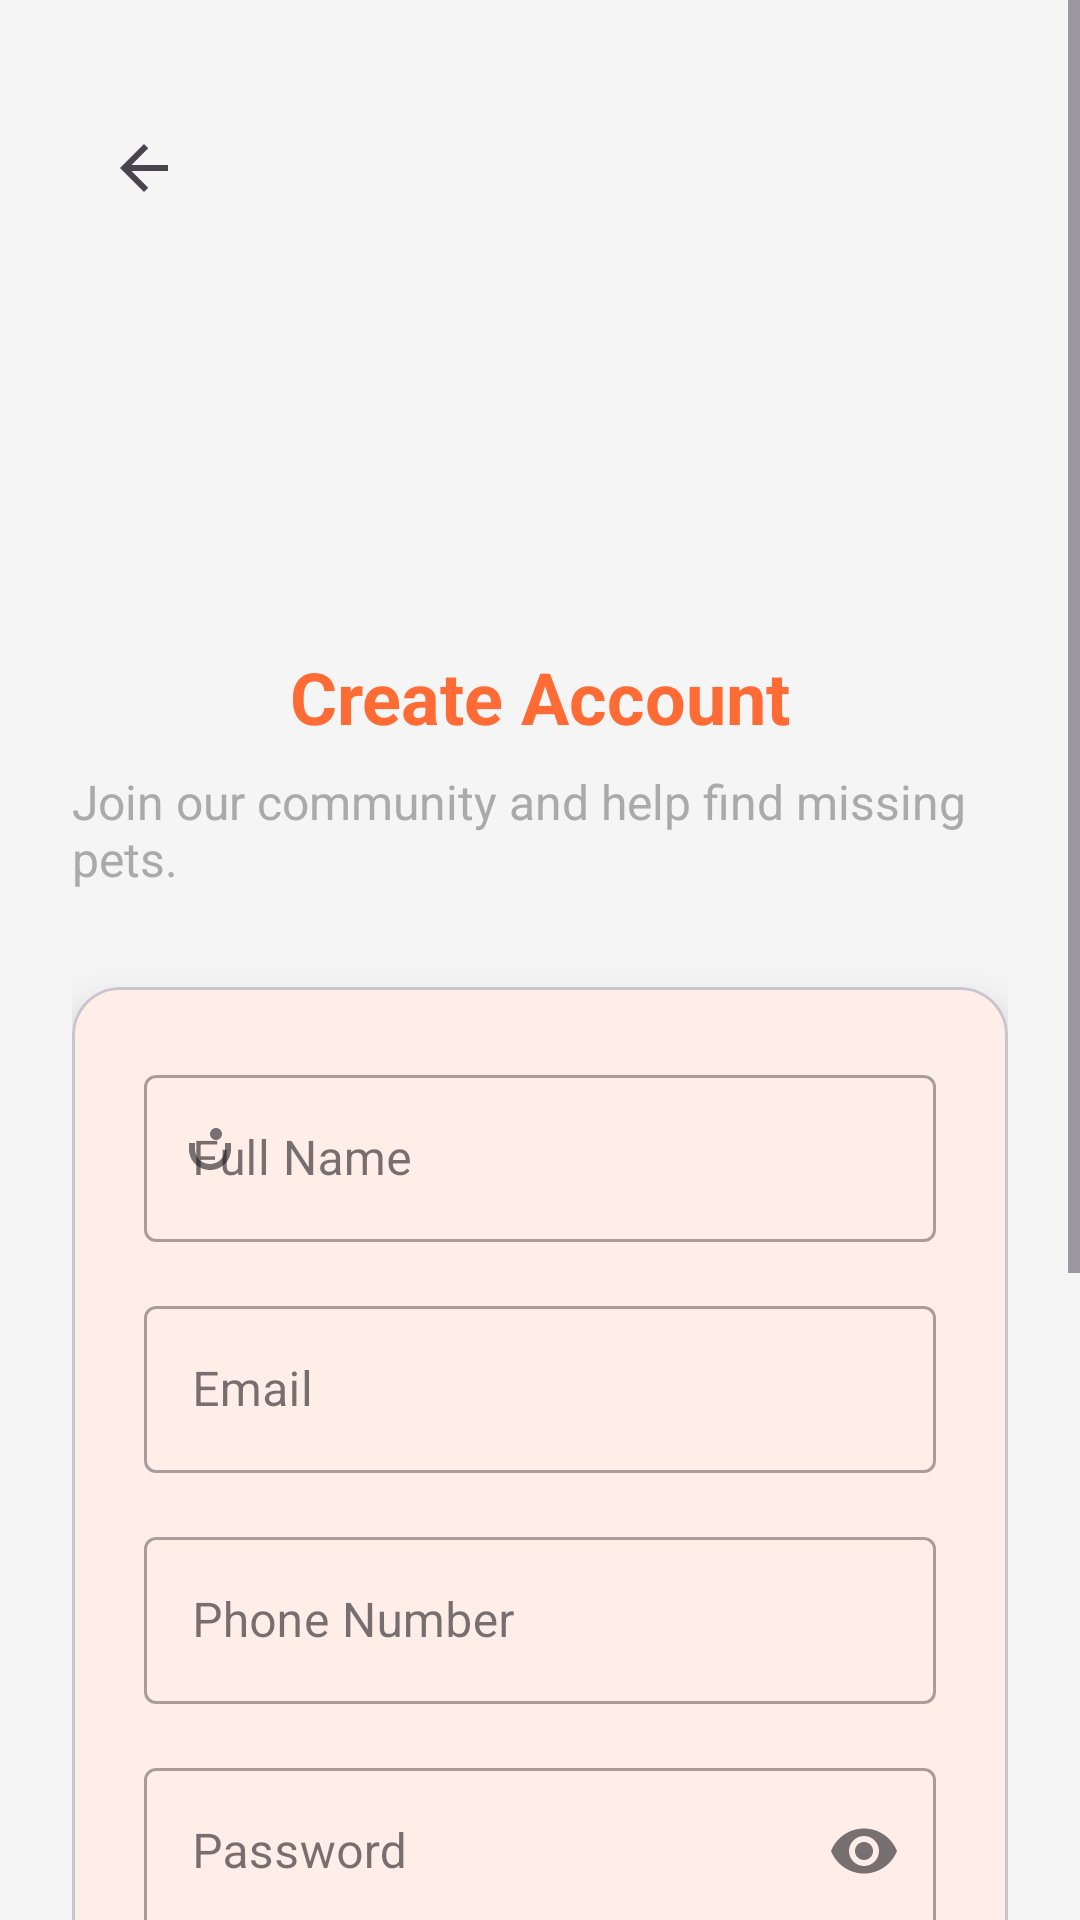

Where icons sit on this 1080px×1920px app screen, as (x1, y1, x2, y2):
Back: (120, 144, 168, 192)
